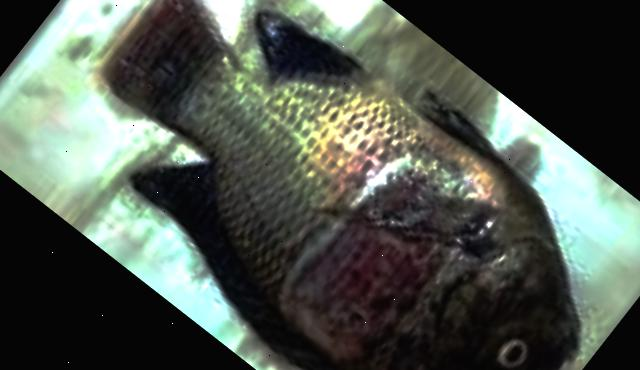Tilapia Lake Virus -TiLV-: (109, 0, 578, 370), (109, 0, 577, 370)
